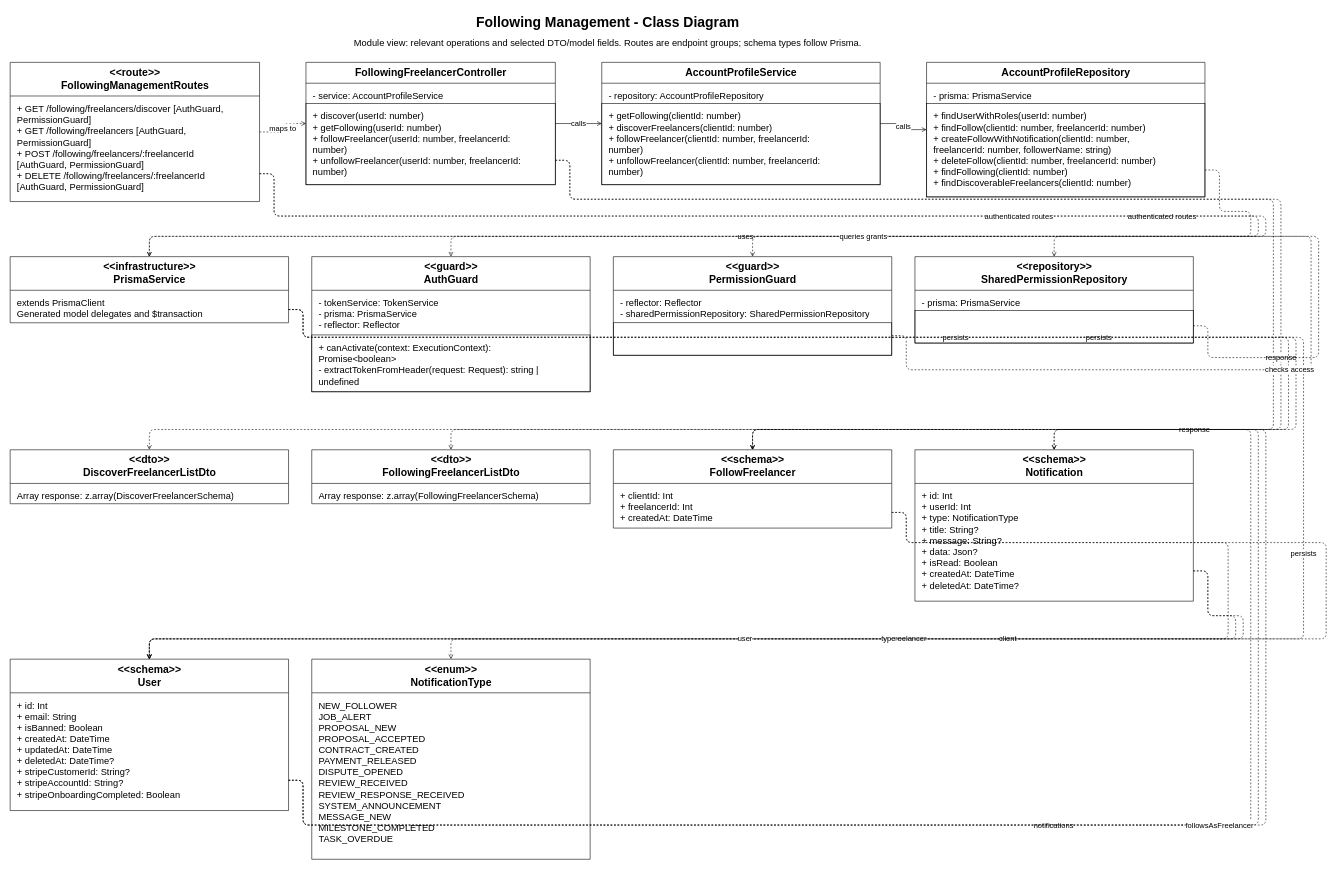
This 1341x871 diagram has some shape labels left out. The shapes that lost their labels are listed below. From the top down, each one's centre as x and y in pixels, then its label:
[752,338]: + canActivate(context: ExecutionContext): Promise<boolean>
[1053,326]: + roleHasPermission(roleId: number, method: string, path: string)
